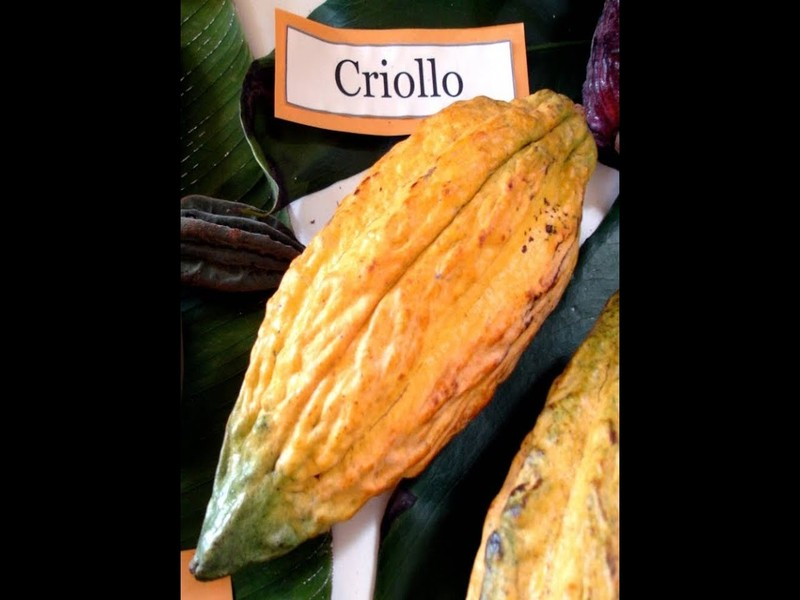Cacaopod: (190, 88, 599, 585)
